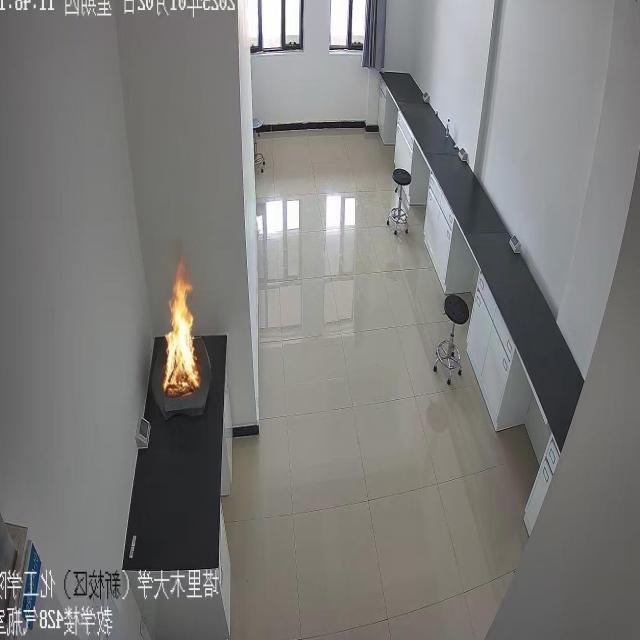smoke: (160, 260, 203, 395)
